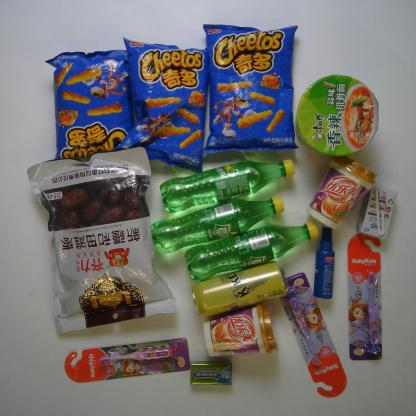Alcohol: (188, 260, 291, 318)
Dried Food: (25, 145, 179, 334)
Drink: (182, 218, 323, 281), (149, 194, 287, 255), (158, 158, 298, 214)
Gum: (186, 356, 234, 389)
Instant Drink: (306, 151, 380, 231), (200, 302, 279, 361)
Instant Noodles: (292, 73, 385, 161)
Milk: (354, 183, 401, 242)
Personal Hygiene: (275, 271, 349, 399), (63, 336, 193, 382), (346, 230, 388, 362), (312, 226, 340, 300)
Puffed Food: (112, 34, 214, 177), (199, 19, 301, 155), (44, 46, 149, 176)
